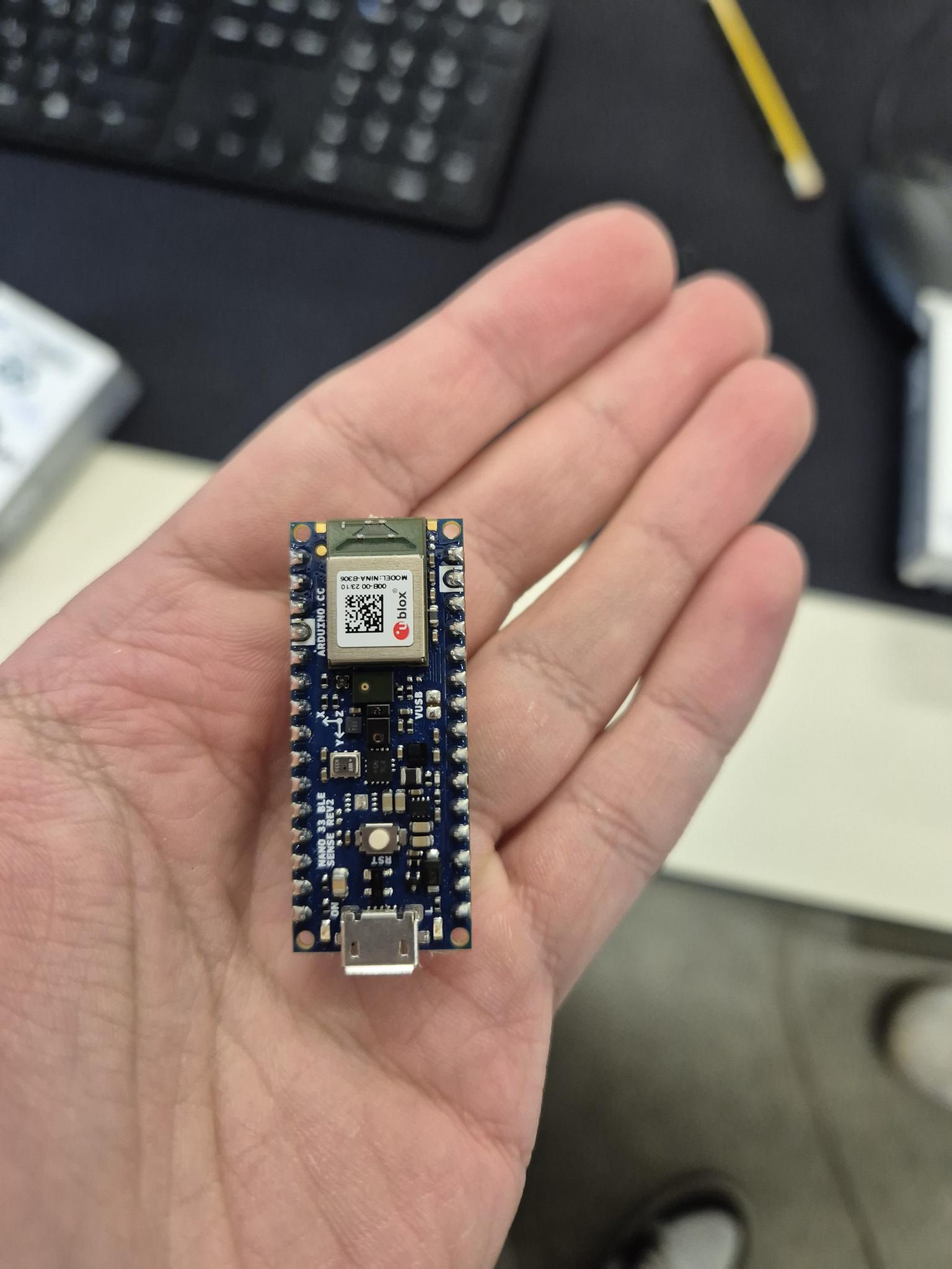arduino-nano-ble-sense: (290, 518, 471, 974)
